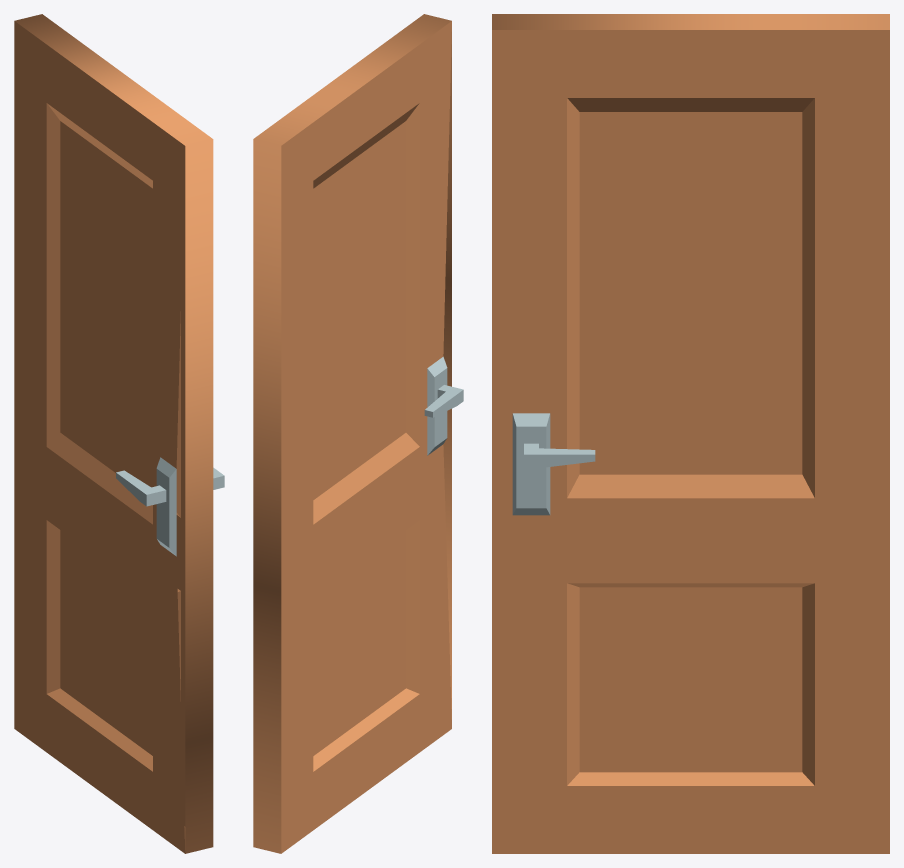
File: durvis.glb
The picture shows the model from 3 angles, left to right: view 1: azimuth 30°, elevation 25°; view 2: azimuth 150°, elevation 25°; view 3: azimuth 270°, elevation 25°; orthographic projection. The views are drawn at different scales.
Parts seen in each view (by area): view 1: doorway.002; view 2: doorway.002; view 3: doorway.002.
Part boxes in pixels (x1=…): doorway.002: x1=14, y1=14, x2=224, y2=853; doorway.002: x1=253, y1=14, x2=463, y2=853; doorway.002: x1=492, y1=14, x2=889, y2=853.
Bounding box in the file's own units: 0.3486 × 3.02 × 1.32.
